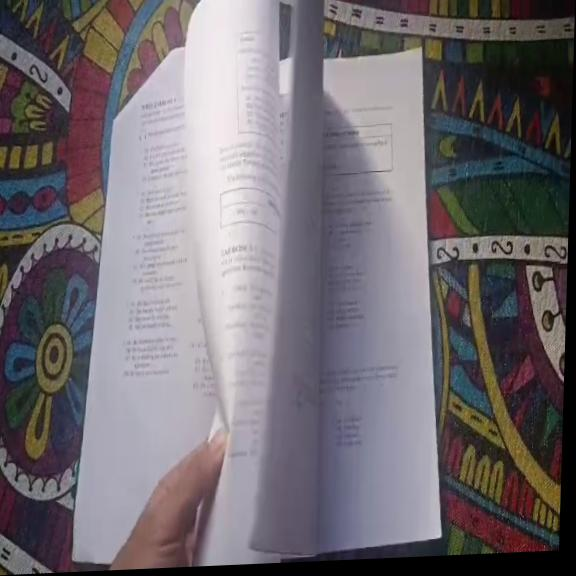Kertas: (268, 50, 441, 553), (73, 49, 215, 562), (318, 50, 441, 552), (186, 0, 282, 564), (252, 0, 323, 554)
